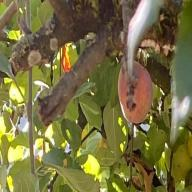Apples: (118, 62, 153, 122)
